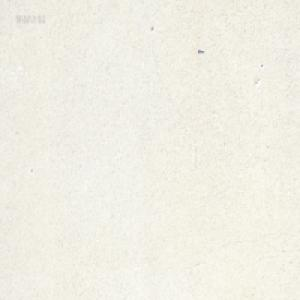Nail: (197, 48, 204, 54)
